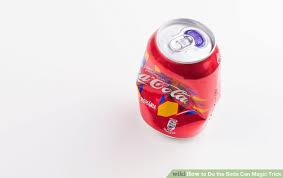Aluminum can: (132, 21, 224, 152)
